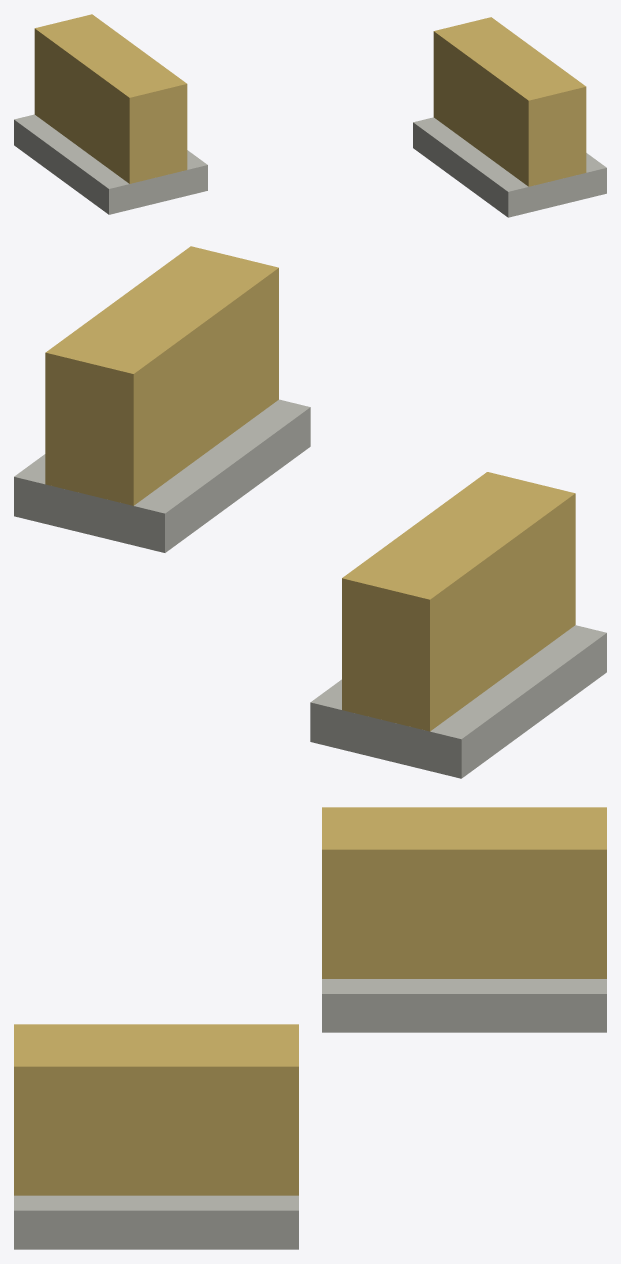
The model's file is zombie-quarantine-streets-vehicle-chicane-a22c6d8b__19327.glb.
3 views of the same model, one above another, from view 1: azimuth 30°, elevation 25°; view 2: azimuth 150°, elevation 25°; view 3: azimuth 270°, elevation 25° (orthographic). The views are drawn at different scales.
Parts seen in each view (by area): view 1: vehicle-chicane; view 2: vehicle-chicane; view 3: vehicle-chicane.
Boxes of the visible parts, x1,y1,x2,y2 form: vehicle-chicane: (14, 14, 606, 217); vehicle-chicane: (14, 246, 606, 778); vehicle-chicane: (14, 807, 606, 1249).
Size of the model in its own units: 4.8 by 1.3 by 4.16.
